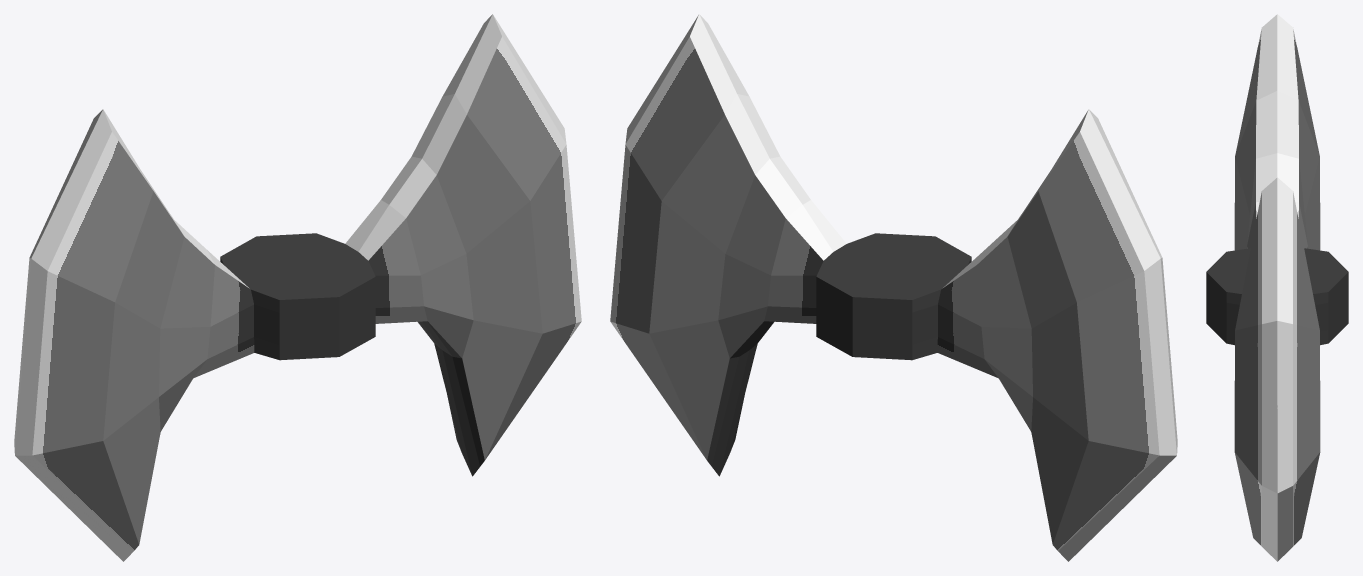
Rendered from Axe-Head-Basic.fbx.
3 renders of one model, left to right at view 1: azimuth 30°, elevation 25°; view 2: azimuth 150°, elevation 25°; view 3: azimuth 270°, elevation 25°, orthographic. The views are drawn at different scales.
Parts seen in each view (by area): view 1: AxeHead; view 2: AxeHead; view 3: AxeHead.
Part boxes in pixels (x1,y1,x2,y2): AxeHead: (14,14,581,561); AxeHead: (610,14,1177,561); AxeHead: (1206,14,1348,561).
Bounding box in the file's own units: 19.57 × 15.12 × 4.97.
